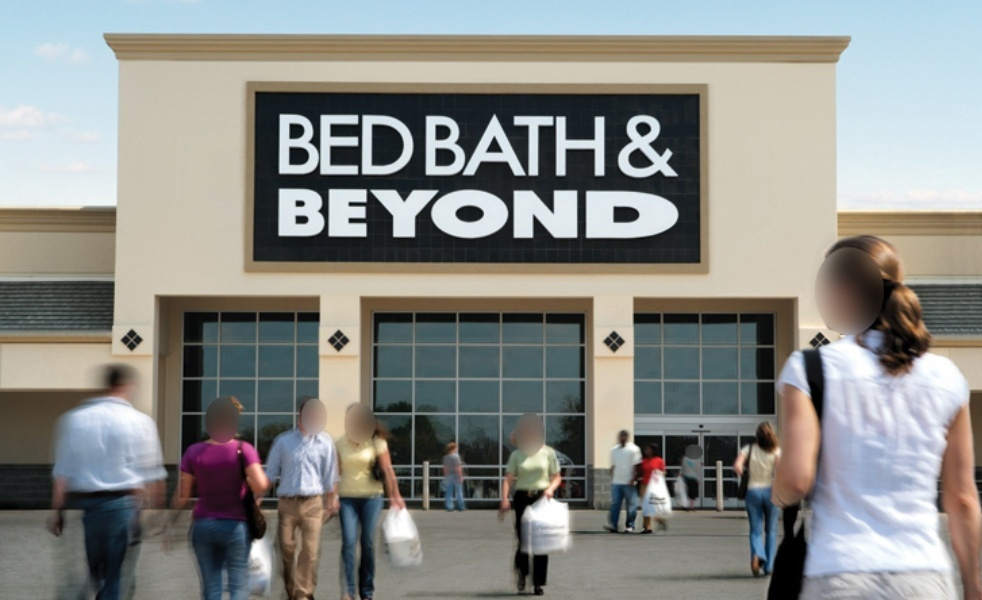text: (289, 113, 304, 178), (305, 113, 320, 178), (321, 113, 336, 178), (337, 113, 352, 178), (353, 113, 368, 178), (369, 113, 384, 178), (385, 113, 400, 178), (401, 113, 416, 178), (417, 113, 432, 178), (433, 113, 448, 178), (449, 113, 464, 178), (465, 113, 480, 178), (481, 113, 496, 178), (497, 113, 512, 178), (513, 113, 528, 178), (529, 113, 544, 178), (545, 113, 560, 178), (561, 113, 576, 178), (577, 113, 592, 178), (593, 113, 608, 178), (609, 113, 624, 178), (625, 113, 640, 178), (641, 113, 656, 178), (657, 113, 672, 178), (289, 184, 304, 240), (305, 184, 320, 240), (321, 184, 336, 240), (337, 184, 352, 240), (353, 184, 368, 240), (369, 184, 384, 240), (385, 184, 400, 240), (401, 184, 416, 240), (417, 184, 432, 240), (433, 184, 448, 240), (449, 184, 464, 240), (465, 184, 480, 240), (481, 184, 496, 240), (497, 184, 512, 240), (513, 184, 528, 240), (529, 184, 544, 240), (545, 184, 560, 240), (561, 184, 576, 240), (577, 184, 592, 240), (593, 184, 608, 240), (609, 184, 624, 240), (625, 184, 640, 240), (641, 184, 656, 240), (657, 184, 672, 240), (277, 184, 288, 240), (279, 113, 288, 178), (673, 113, 679, 178), (673, 184, 679, 240)
